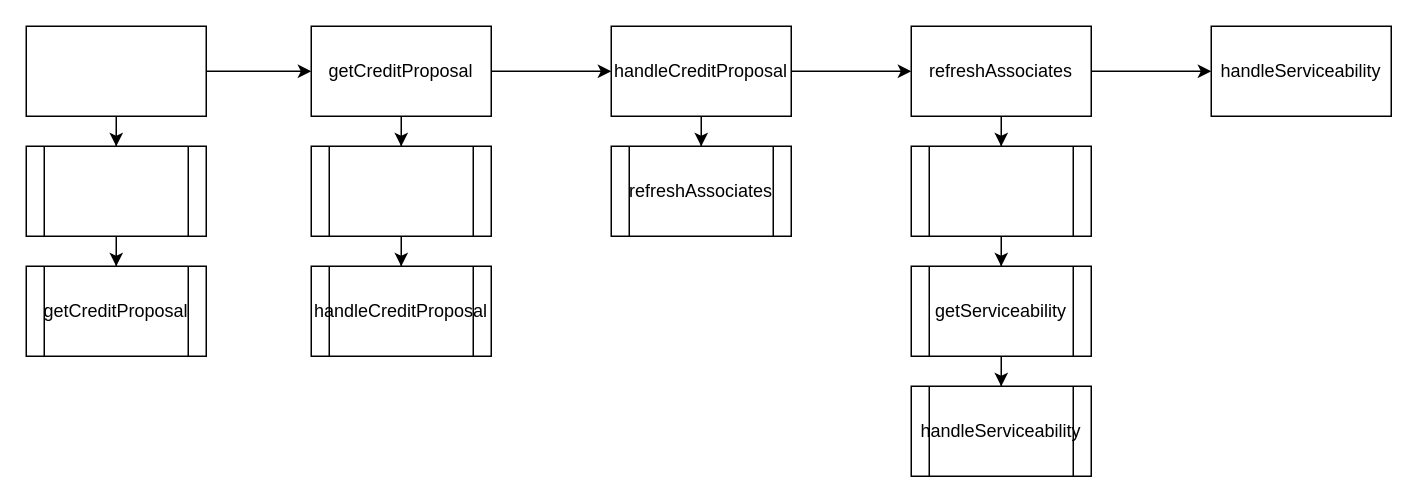
Some shapes in this 1418 by 503 pixel diagram are drawn without their labels. Each missing label, with the centre of its shape:
"calls getCreditProposal creditMinute" goes at pixel 400 190.
"getAssociates" goes at pixel 1000 190.
"getReferenceList" goes at pixel 115 190.
"ngOnInit" goes at pixel 115 70.
